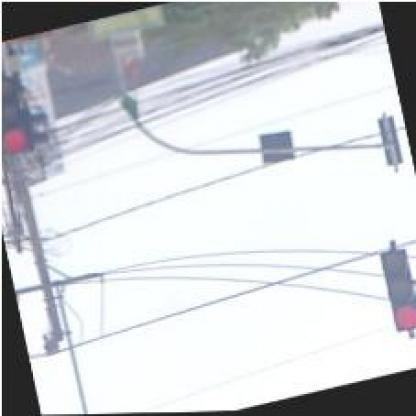red: (377, 246, 415, 337), (0, 72, 33, 160)
